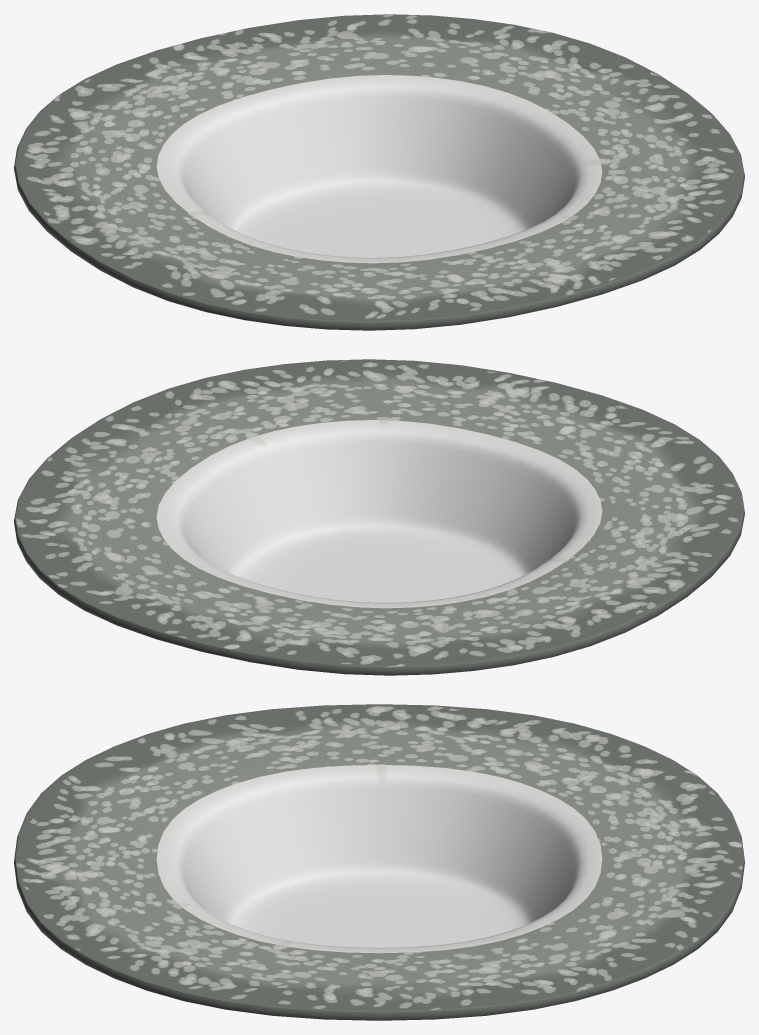
The model's file is Plato4.glb.
3 renders of one model, top to bottom at view 1: azimuth 30°, elevation 25°; view 2: azimuth 150°, elevation 25°; view 3: azimuth 270°, elevation 25°, orthographic. The views are drawn at different scales.
Parts seen in each view (by area): view 1: Plane; view 2: Plane; view 3: Plane.
Boxes of the visible parts, x1=… form: Plane: x1=14, y1=14, x2=744, y2=330; Plane: x1=14, y1=359, x2=744, y2=675; Plane: x1=14, y1=704, x2=744, y2=1020.
Bounding box in the file's own units: 0.2558 × 0.035 × 0.2558.
Materials: 1 (1 with a texture image).
